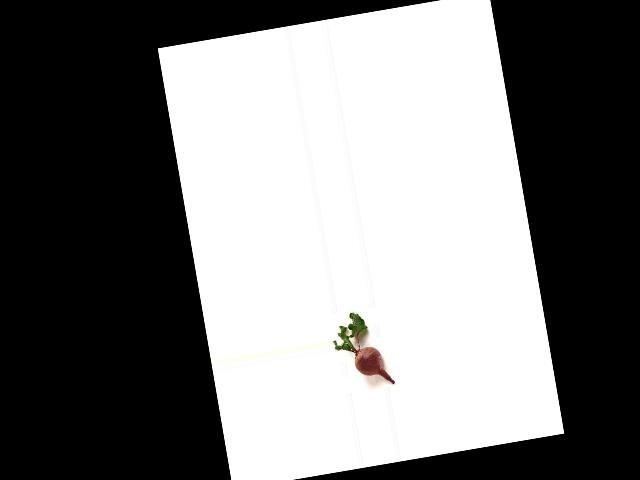beet: (328, 307, 395, 392)
